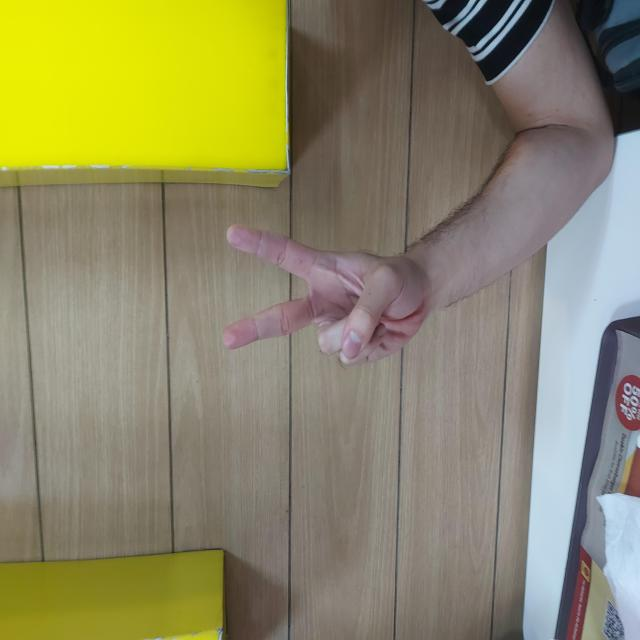V: (271, 217, 423, 428)
